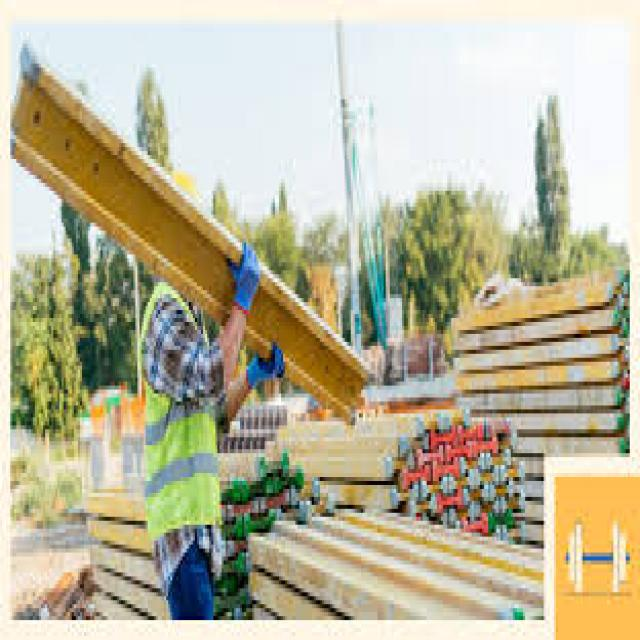Reflective-Jacket: (135, 282, 228, 557)
